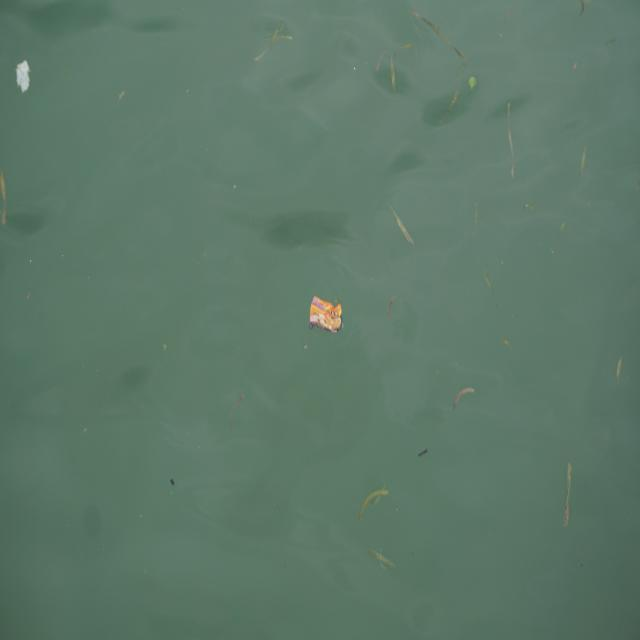Bungkus Makanan: (309, 292, 346, 339)
